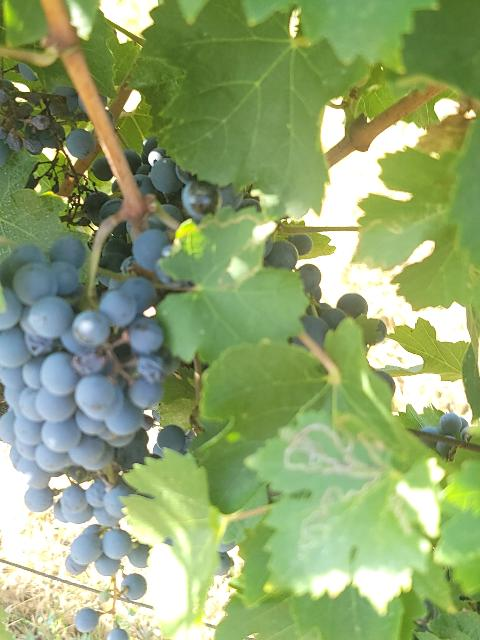grapes: (0, 236, 178, 479)
